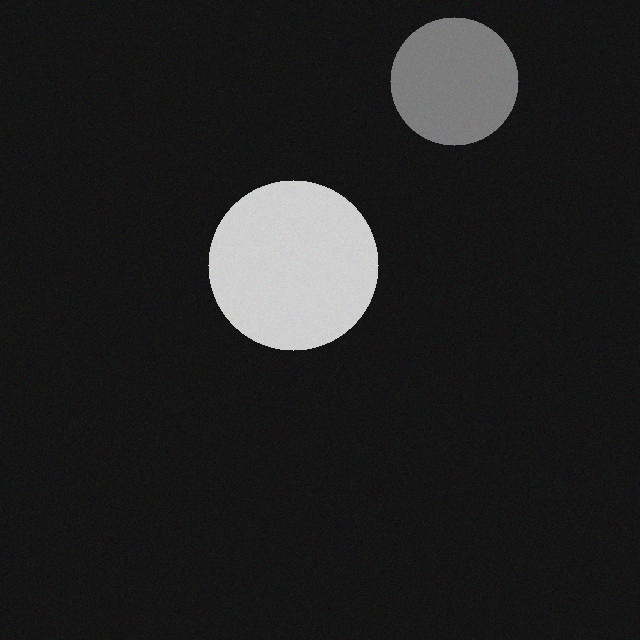circle: (209, 188, 379, 358), (391, 25, 519, 153)
